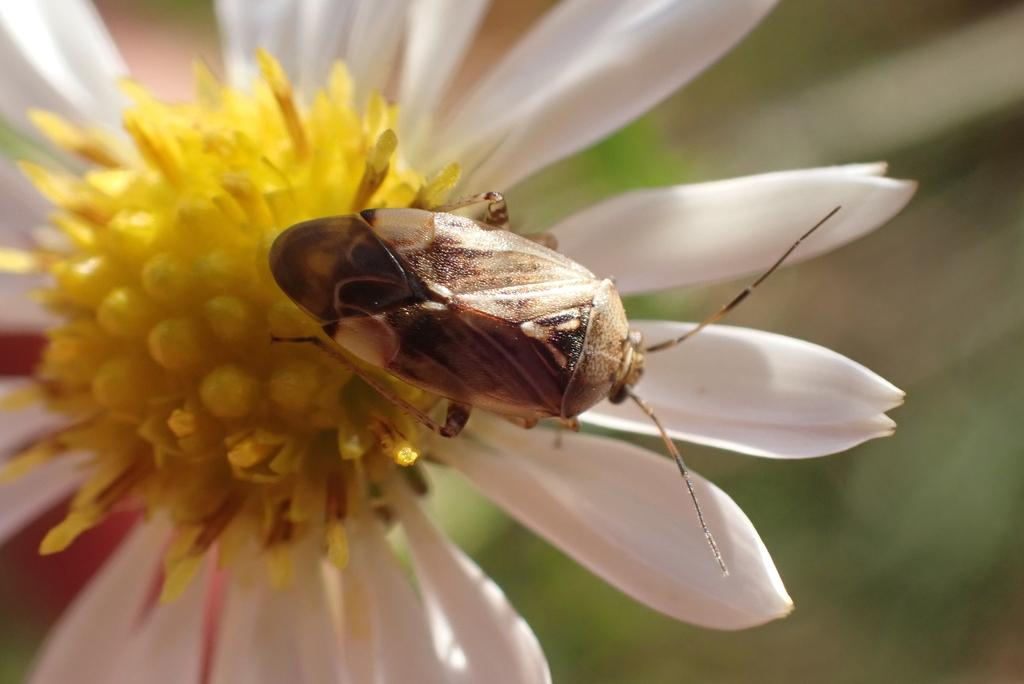plant_bugs: (204, 130, 893, 623)
